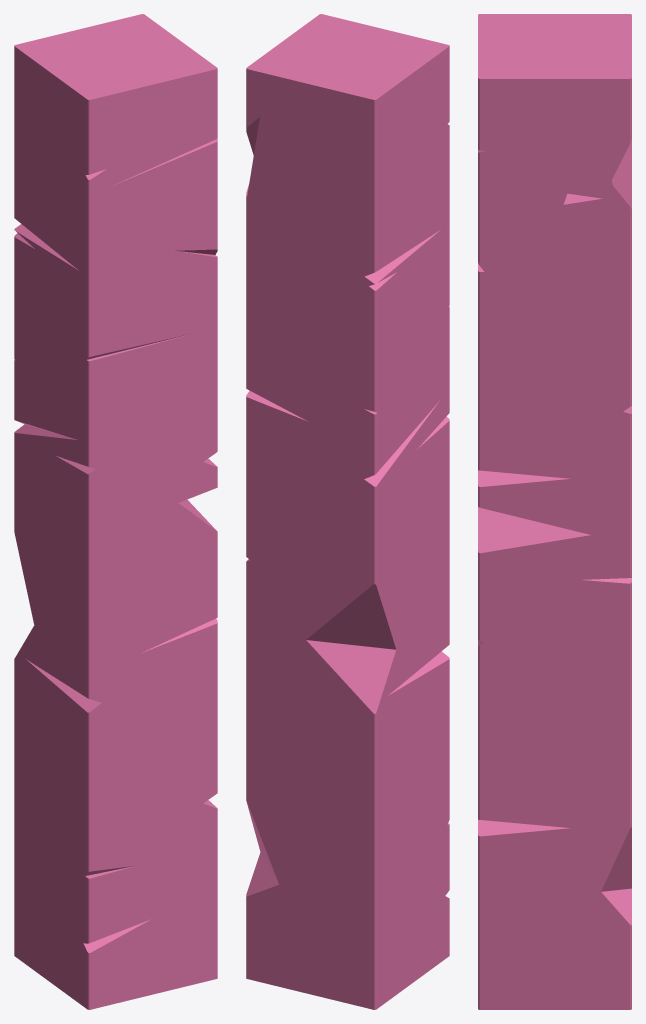
The model's file is wspinaczka.fbx.
3 views of the same model, side by side, from view 1: azimuth 30°, elevation 25°; view 2: azimuth 150°, elevation 25°; view 3: azimuth 270°, elevation 25° (orthographic). The views are drawn at different scales.
Visible parts, largest first — view 1: wspinaczka; view 2: wspinaczka; view 3: wspinaczka.
Part boxes in pixels (x1,y1,x2,y2): wspinaczka: [14, 14, 217, 1009]; wspinaczka: [246, 14, 449, 1009]; wspinaczka: [478, 14, 631, 1009].
Size of the model in its own units: 54.89 by 367 by 54.89.
